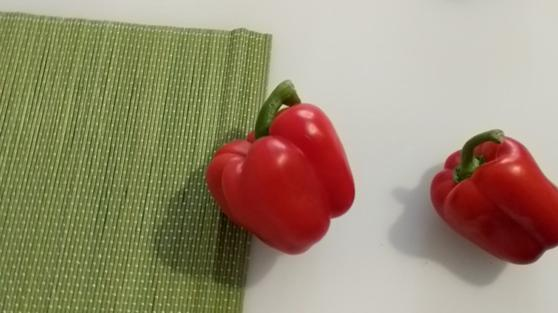pepper: (199, 79, 356, 256), (430, 130, 558, 266)
